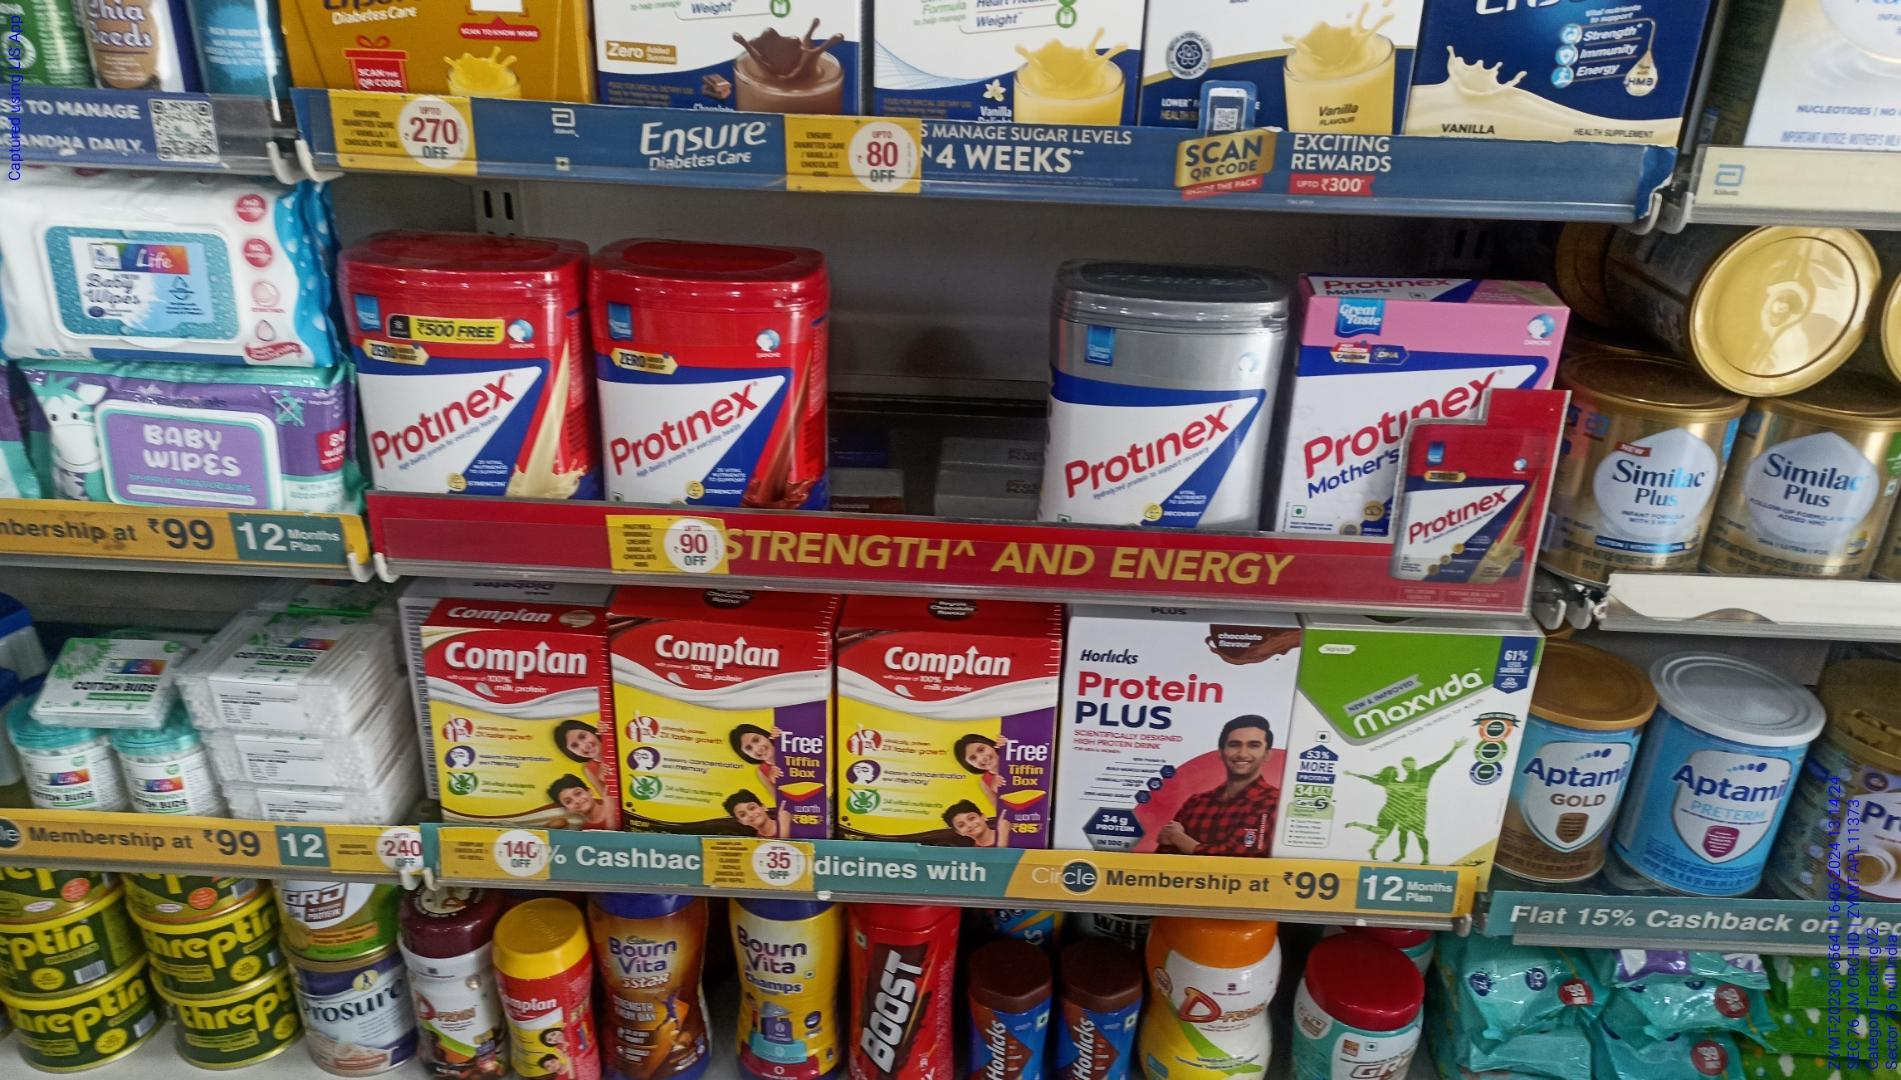BOURN_VITA_CHAMPS_500_G_JAR: (730, 895, 836, 1080)
BOURN_VITA_FIVE_STAR_MAGIC_500_G_JAR: (595, 897, 708, 1080)
COMPLAN_CHOCOLATE_500_GMS_JAR: (497, 948, 584, 1080)
HORLICK_CHOCOLATE_200_G_JAR: (1052, 970, 1131, 1080), (965, 981, 1046, 1080)
PROTINEX_CHOCOLATE_400_G_JAR: (581, 259, 806, 503)
PROTINEX_ORIGINAL_400_G_JAR: (1041, 298, 1260, 522)
PROTINEX_VANILLA_400_G_JAR: (359, 257, 569, 501)
